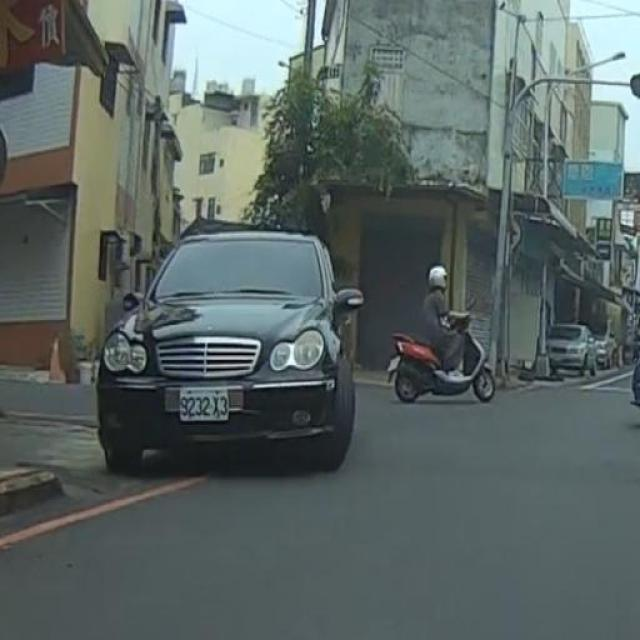illegalparking: (98, 230, 362, 471)
